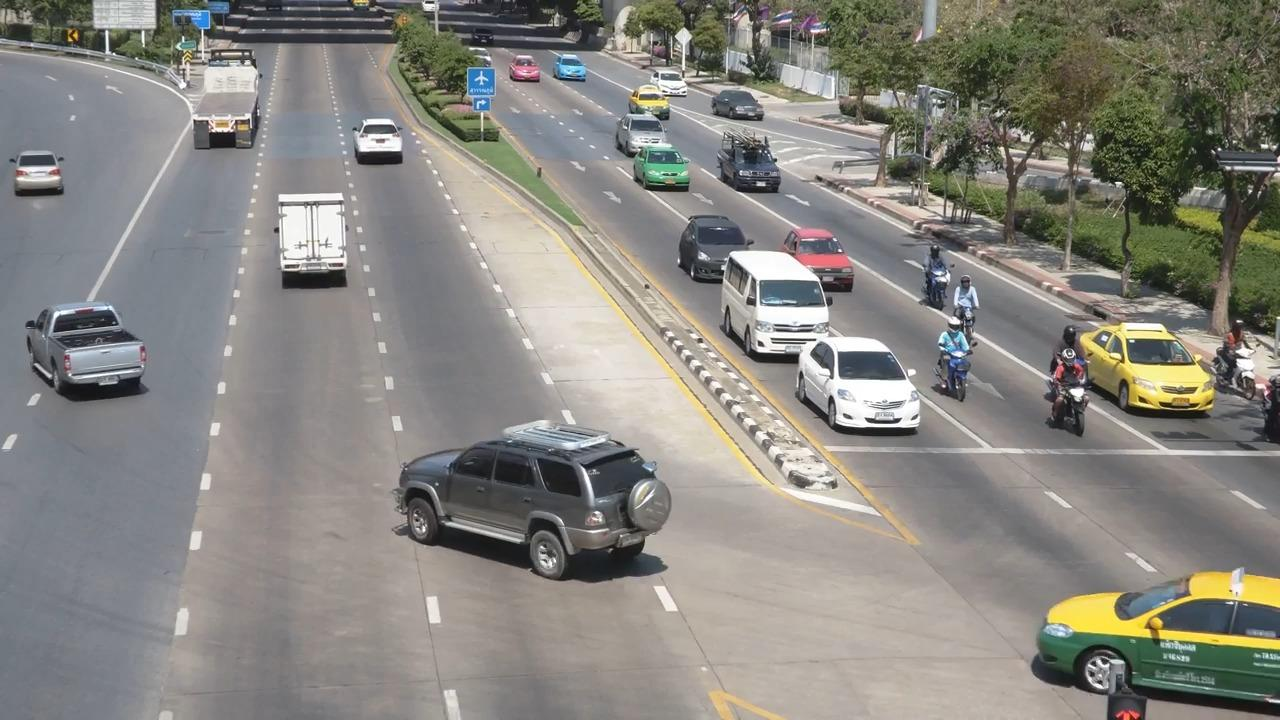CAR: (385, 409, 685, 604), (1022, 522, 1280, 720), (16, 283, 166, 412), (1075, 311, 1210, 422), (795, 322, 923, 439), (252, 177, 376, 296), (716, 240, 828, 357), (661, 198, 745, 278), (711, 122, 793, 201), (5, 133, 80, 218), (762, 206, 848, 280), (343, 109, 420, 182), (632, 139, 700, 201), (613, 81, 673, 126), (710, 83, 766, 128), (612, 106, 672, 146), (645, 63, 696, 97), (555, 45, 589, 82), (506, 51, 539, 83)
HGV_BUS: (170, 43, 273, 161)
MOTOR: (1030, 348, 1099, 438), (923, 316, 977, 400), (878, 216, 934, 294), (1210, 315, 1249, 400), (928, 255, 973, 322)
